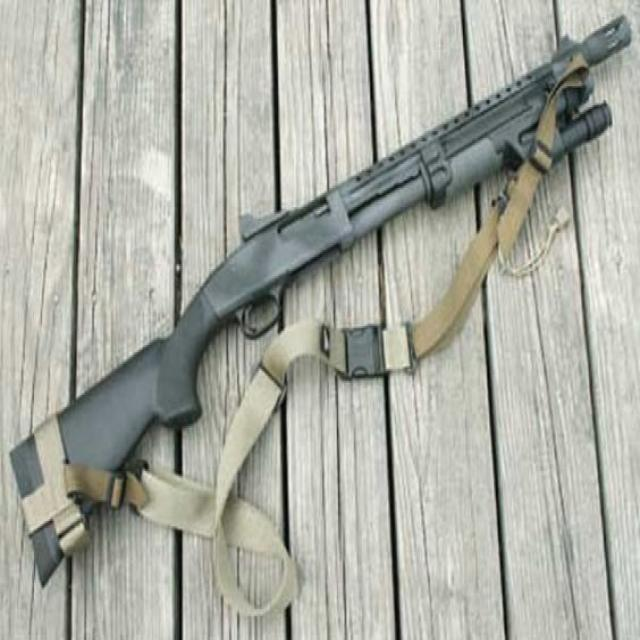shotgun: (0, 11, 629, 606)
